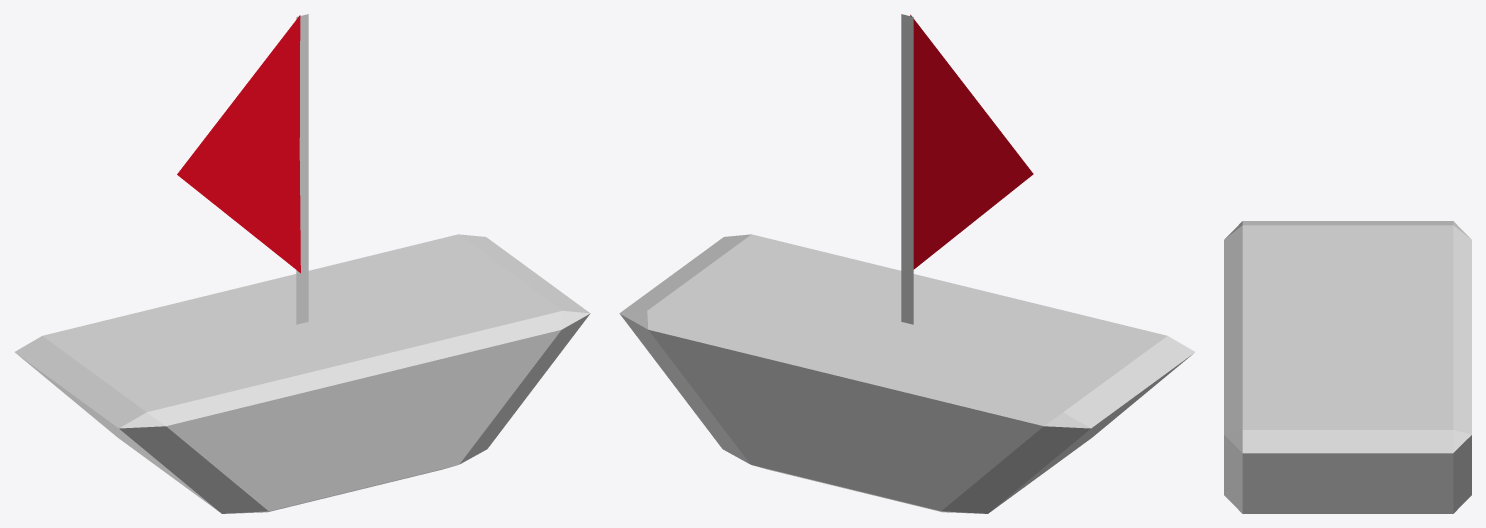
File: segelboot.fbx
3 views of the same model, side by side, from view 1: azimuth 30°, elevation 25°; view 2: azimuth 150°, elevation 25°; view 3: azimuth 270°, elevation 25° (orthographic).
Parts seen in each view (by area): view 1: Cube, Plane, Plane.001; view 2: Cube, Plane, Plane.001; view 3: Cube.
Boxes of the visible parts, <box> form: Cube: <box>15,234,590,513</box>; Plane: <box>177,15,300,273</box>; Plane.001: <box>296,14,308,324</box>; Cube: <box>619,234,1194,513</box>; Plane: <box>910,14,1033,269</box>; Plane.001: <box>901,14,913,324</box>; Cube: <box>1224,221,1471,513</box>.
Bounding box in the file's own units: 222 × 197 × 100.
